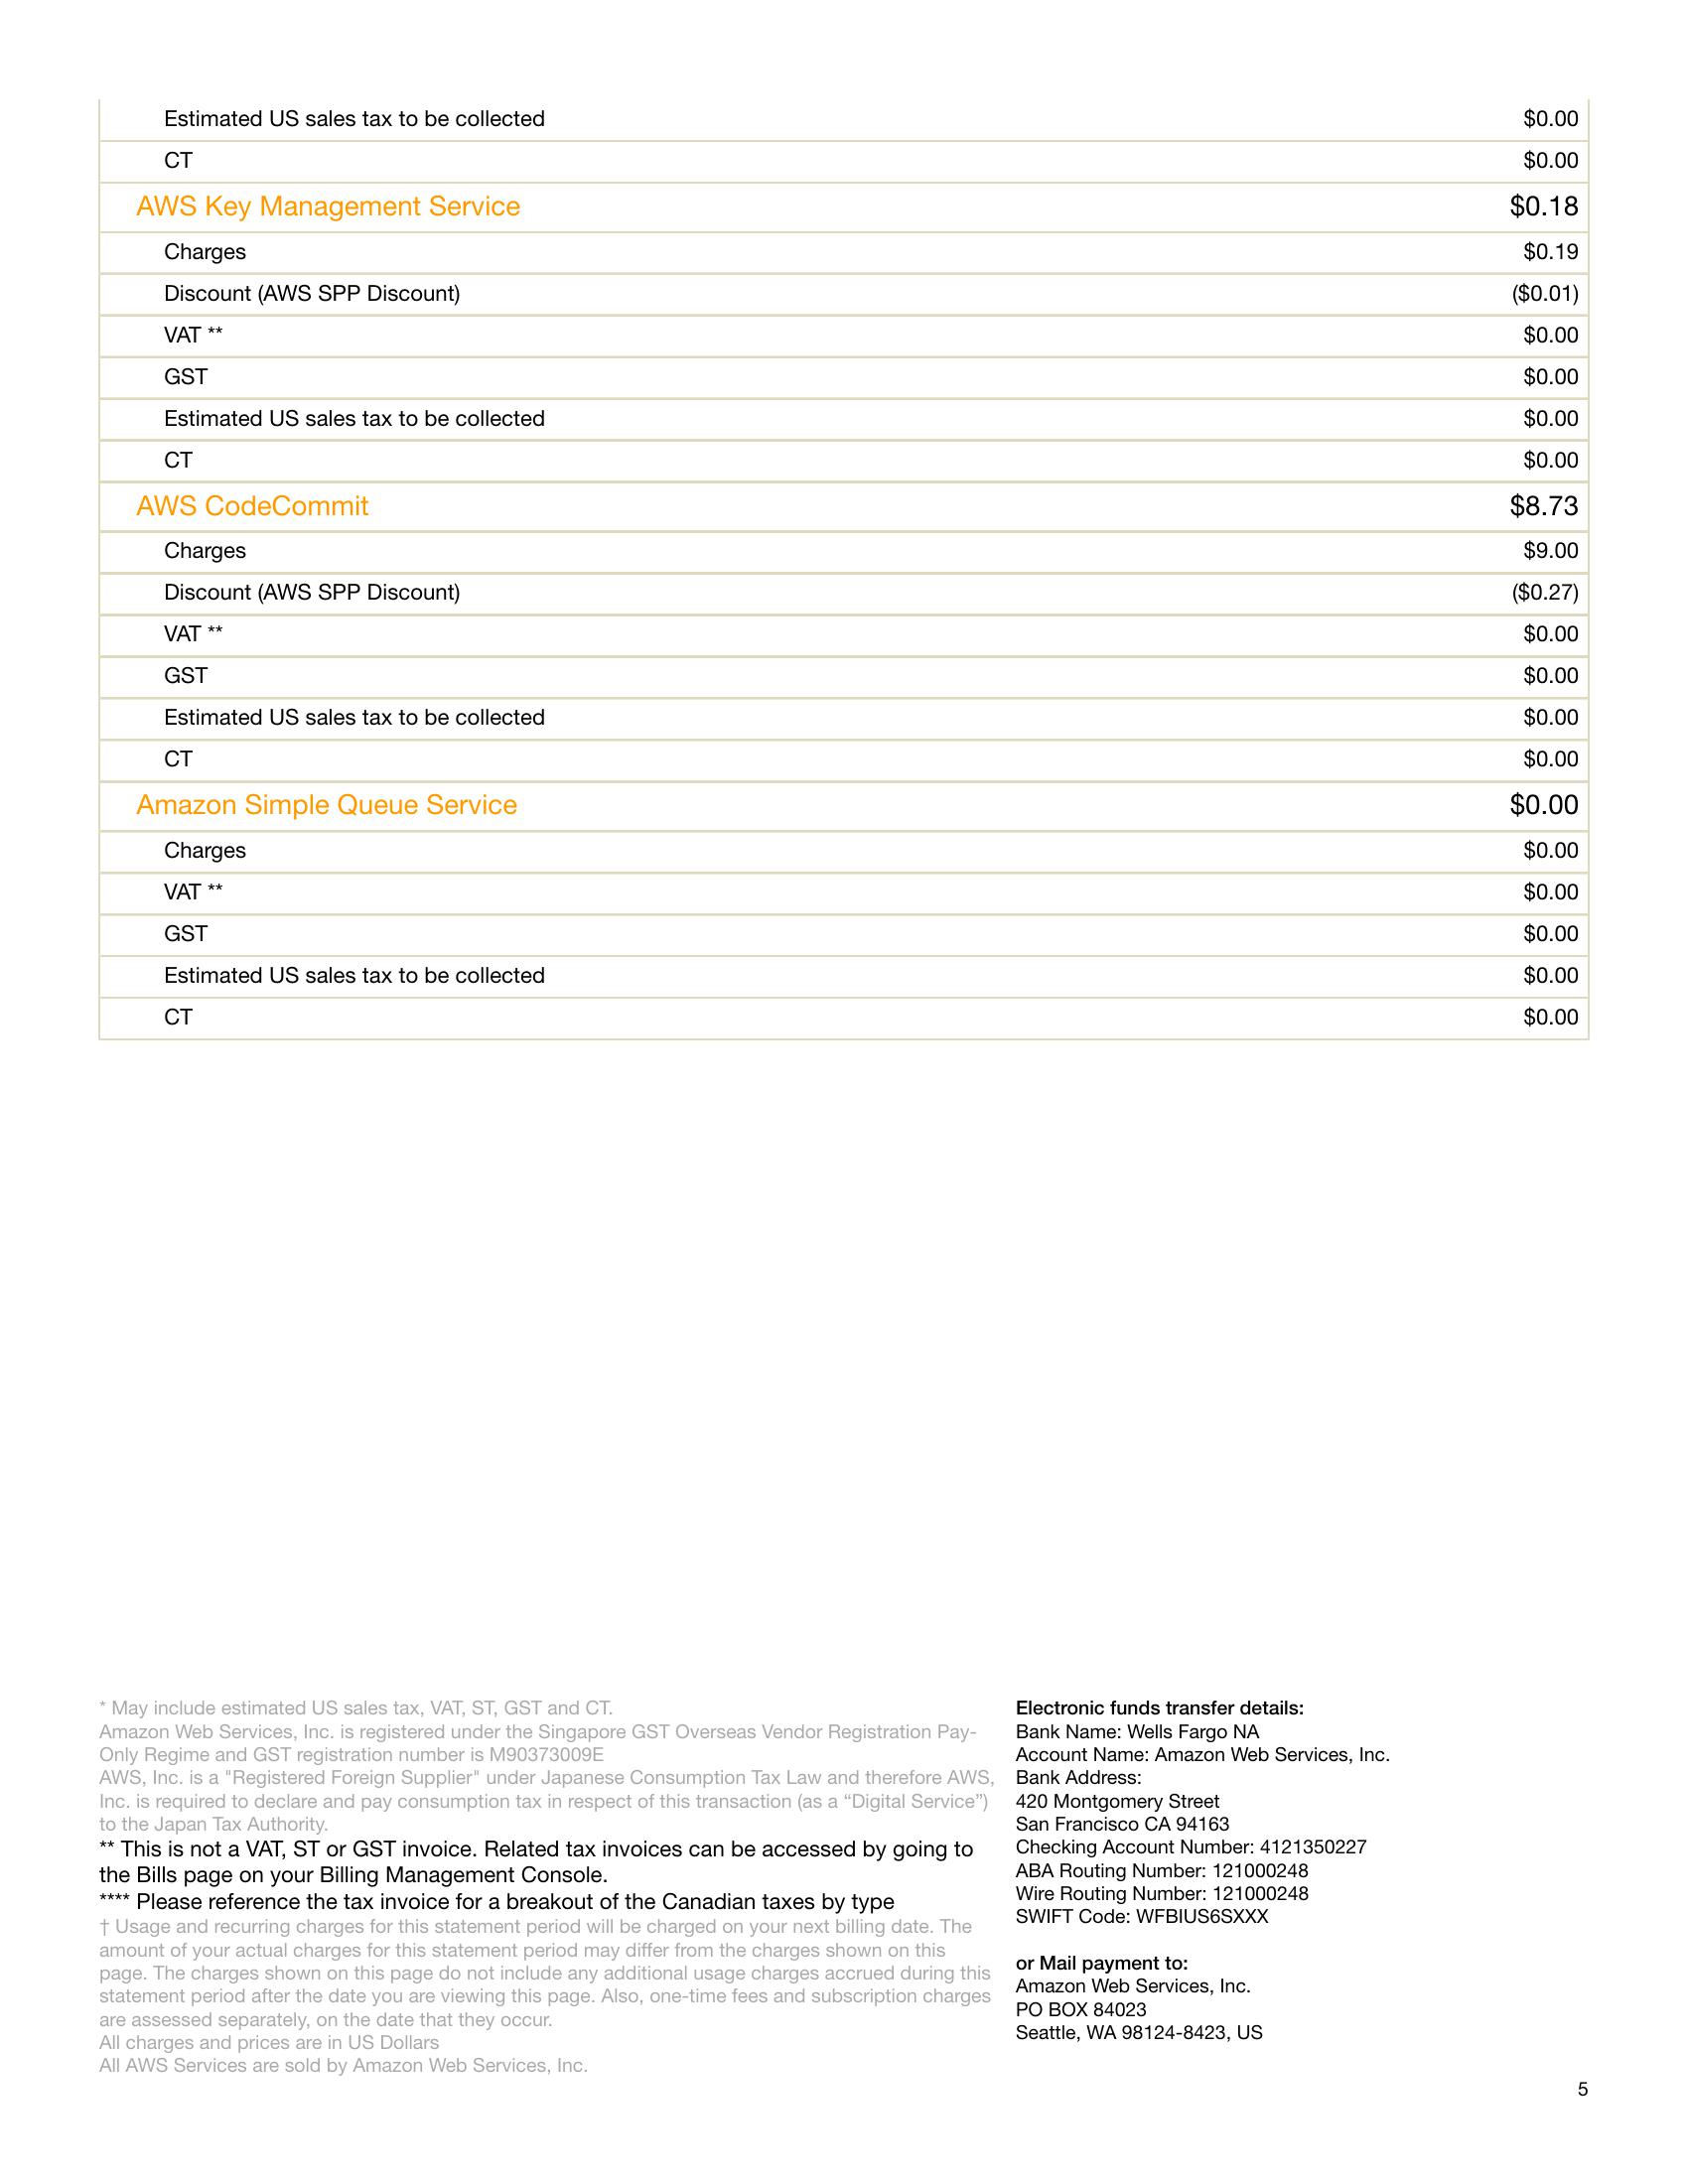table: (83, 64, 1644, 1099)
